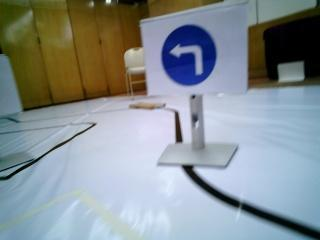left: (145, 22, 243, 89)
